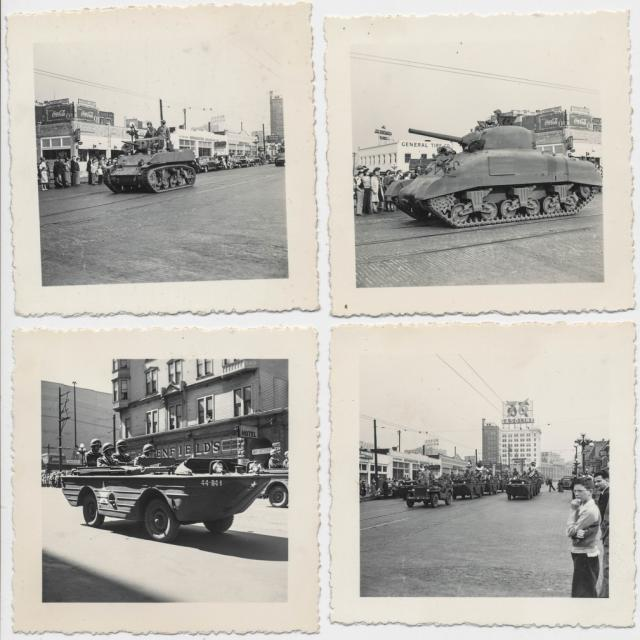tank: (383, 112, 602, 227), (104, 100, 201, 192)
